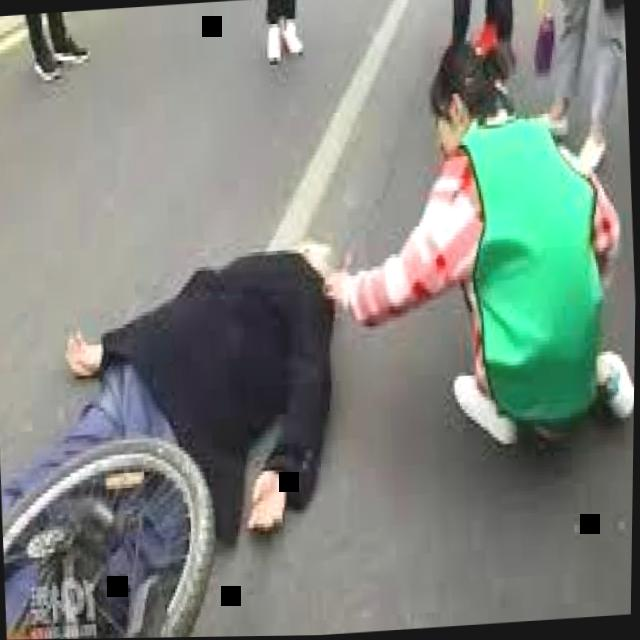Fall-Detected: (1, 194, 384, 640)
